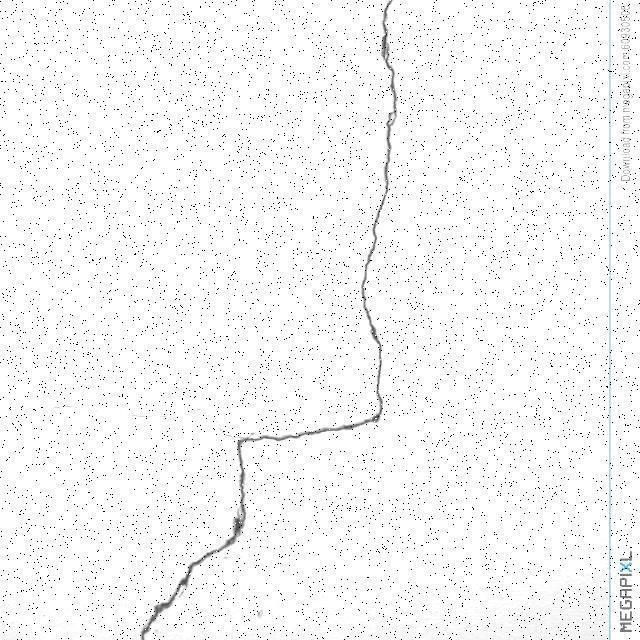minor crack: (362, 6, 615, 626)
moderate crack: (358, 9, 394, 421), (606, 3, 615, 628), (142, 562, 203, 632), (229, 443, 249, 534)
severe crack: (158, 16, 394, 640), (251, 418, 372, 438)
